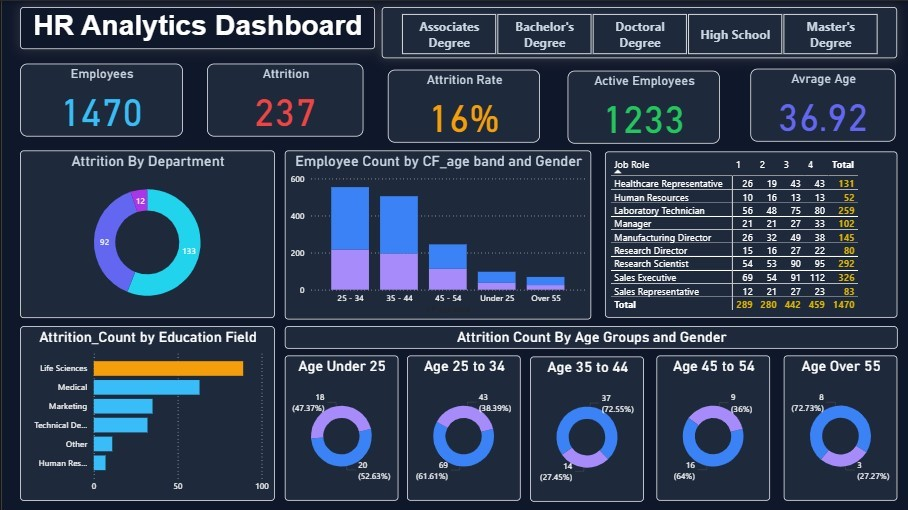

The page's visual inventory and layout, read from the dashboard file:
{"tool":"powerbi","page":{"name":"Page 1","canvas":[1280,720],"ordinal":0},"visuals":[{"type":"card","title":"Employees","fields":{"Values":["Sum(HR data.Employee Count)"]},"box":[25.7,88.4,229.6,102.7],"z":0},{"type":"card","title":"Attrition","fields":{"Values":["Sum(HR data.Attrition_Count)"]},"box":[289.5,88.4,221.1,102.7],"z":1000},{"type":"card","title":"Attrition Rate","fields":{"Values":["HR data.Attrition_Rate"]},"box":[544.8,97,215.3,102.7],"z":2000},{"type":"card","title":"Active Employees","fields":{"Values":["HR data.Active Employee"]},"box":[798.6,98.4,215.3,102.7],"z":3000},{"type":"card","title":"Avrage Age","fields":{"Values":["Avg(HR data.Age)"]},"box":[1056.8,95.6,205.4,102.7],"z":4000},{"type":"donutChart","title":"Attrition By Department","fields":{"Y":["Sum(HR data.Attrition_Count)"],"Category":["HR data.Department"]},"box":[25.7,211.4,359,237.1],"z":5000},{"type":"columnChart","title":"Employee Count by CF_age band and Gender","fields":{"Category":["HR data.CF_age band"],"Y":["Sum(HR data.Employee Count)"],"Series":["HR data.Gender"]},"box":[399,210.7,432.5,238.6],"z":6000},{"type":"pivotTable","fields":{"Columns":["HR data.Job Satisfaction"],"Rows":["HR data.Job Role"],"Values":["Sum(HR data.Employee Count)"]},"box":[851,212.1,412.9,235],"z":7000},{"type":"barChart","title":"Attrition_Count by Education Field","fields":{"Category":["HR data.Education Field"],"Y":["Sum(HR data.Attrition_Count)"]},"box":[25.7,459.3,359,246.6],"z":8000},{"type":"donutChart","title":"Age Under 25","fields":{"Category":["HR data.Gender"],"Y":["Sum(HR data.Attrition_Count)"],"Series":["HR data.CF_age band"]},"box":[399,500.8,160,205.1],"z":9000},{"type":"textbox","title":"Attrition Count By Age Groups and Gender","box":[399,459,864.9,32.1],"z":10000},{"type":"donutChart","title":"Age 35 to 44","fields":{"Category":["HR data.Gender"],"Y":["Sum(HR data.Attrition_Count)"],"Series":["HR data.CF_age band"]},"box":[746.4,502.2,160.4,205.1],"z":11000},{"type":"donutChart","title":"Age 25 to 34","fields":{"Category":["HR data.Gender"],"Y":["Sum(HR data.Attrition_Count)"],"Series":["HR data.CF_age band"]},"box":[572,500.8,160,205.1],"z":12000},{"type":"donutChart","title":"Age 45 to 54","fields":{"Category":["HR data.Gender"],"Y":["Sum(HR data.Attrition_Count)"],"Series":["HR data.CF_age band"]},"box":[923.5,500.8,160,205.1],"z":13000},{"type":"donutChart","title":"Age Over 55","fields":{"Category":["HR data.Gender"],"Y":["Sum(HR data.Attrition_Count)"],"Series":["HR data.CF_age band"]},"box":[1103.5,500.8,160.4,205.1],"z":14000},{"type":"textbox","title":"HR Analytics Dashboard","box":[25.7,8.6,500.6,59.9],"z":15000},{"type":"slicer","fields":{"Values":["HR data.Education"]},"box":[536.2,8.6,727.3,72.7],"z":16000}]}

Visuals, with their boxes in screenshot pixels (x1, y1, x2, y2), scaled from the page's 1280x720 canvas onto the 908x510 screenshot:
"Employees" card: [18,63,181,135]
"Attrition" card: [205,63,362,135]
"Attrition Rate" card: [386,69,539,141]
"Active Employees" card: [567,70,719,142]
"Avrage Age" card: [750,68,895,140]
"Attrition By Department" donutChart: [18,150,273,318]
"Employee Count by CF_age band and Gender" columnChart: [283,149,590,318]
pivotTable - HR data.Job Satisfaction x HR data.Job Role: [604,150,897,317]
"Attrition_Count by Education Field" barChart: [18,325,273,500]
"Age Under 25" donutChart: [283,355,397,500]
"Attrition Count By Age Groups and Gender" textbox: [283,325,897,348]
"Age 35 to 44" donutChart: [529,356,643,501]
"Age 25 to 34" donutChart: [406,355,519,500]
"Age 45 to 54" donutChart: [655,355,769,500]
"Age Over 55" donutChart: [783,355,897,500]
"HR Analytics Dashboard" textbox: [18,6,373,49]
slicer - HR data.Education: [380,6,896,58]
